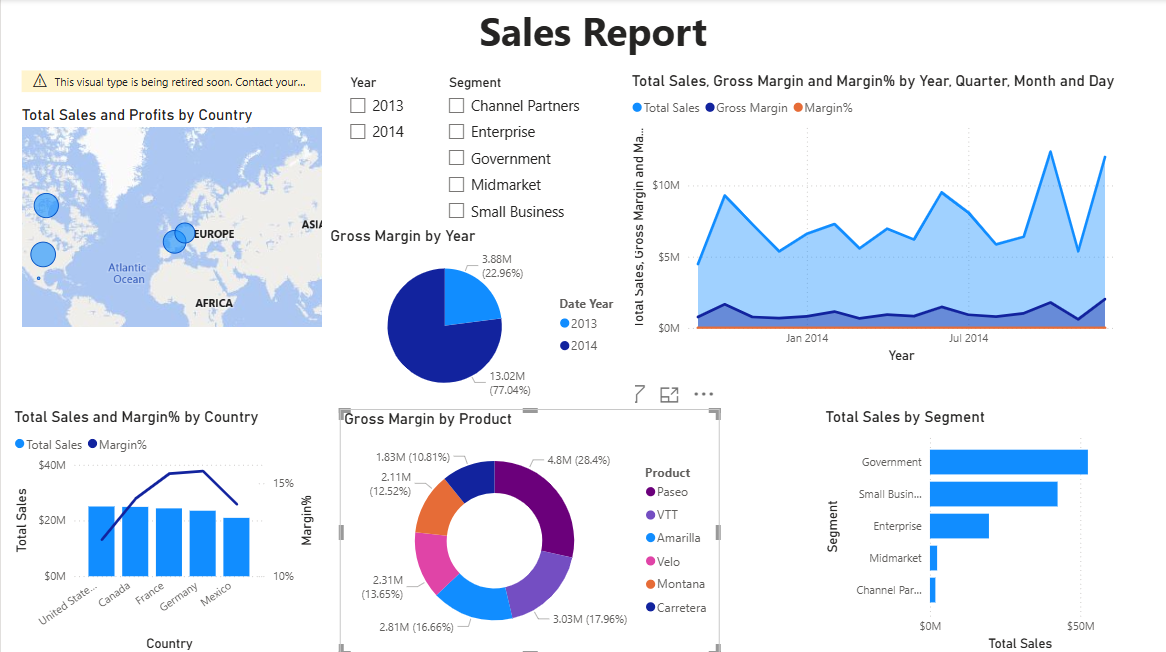

This screenshot's page, from the dashboard's own definition file:
{"tool":"powerbi","page":{"name":"Page 1","canvas":[1280,720],"ordinal":0},"visuals":[{"type":"textbox","box":[520.1,0,269,78.2],"z":0},{"type":"map","fields":{"Category":["SalesTable.Country"],"Size":["SalesTable.Total Sales"]},"box":[17.8,78.2,338.9,281.3],"z":1},{"type":"slicer","fields":{"Values":["SalesTable.Date.Variation.Date Hierarchy.Year"]},"box":[370.5,78.2,108.4,102.9],"z":2},{"type":"slicer","fields":{"Values":["SalesTable.Segment"]},"box":[478.9,78.2,185.2,188],"z":3},{"type":"areaChart","fields":{"Category":["SalesTable.Date.Variation.Date Hierarchy.Year","SalesTable.Date.Variation.Date Hierarchy.Quarter","SalesTable.Date.Variation.Date Hierarchy.Month","SalesTable.Date.Variation.Date Hierarchy.Day"],"Y":["SalesTable.Total Sales","SalesTable.Gross Margin","SalesTable.Margin%"]},"box":[687.5,79.6,551.6,325.2],"z":4},{"type":"donutChart","fields":{"Category":["SalesTable.Product"],"Y":["SalesTable.Gross Margin"]},"box":[371.9,450.1,417.2,270.3],"z":5},{"type":"clusteredBarChart","fields":{"Y":["SalesTable.Total Sales"],"Category":["SalesTable.Segment"]},"box":[900.2,448.7,338.9,271.7],"z":6},{"type":"lineClusteredColumnComboChart","fields":{"Y":["SalesTable.Total Sales"],"Category":["SalesTable.Country"],"Y2":["SalesTable.Margin%"]},"box":[9.6,448.7,338.9,271.7],"z":7},{"type":"pieChart","fields":{"Category":["SalesTable.Date.Variation.Date Hierarchy.Year"],"Y":["SalesTable.Gross Margin"]},"box":[356.8,249.7,338.9,199],"z":8}]}

Visuals, with their boxes in screenshot pixels (x1, y1, x2, y2), scaled from the page's 1280x720 canvas onto the 1166x652 screenshot:
textbox: [474, 0, 719, 71]
map - SalesTable.Country x SalesTable.Total Sales: [16, 71, 325, 326]
slicer - SalesTable.Date.Variation.Date Hierarchy.Year: [338, 71, 436, 164]
slicer - SalesTable.Segment: [436, 71, 605, 241]
areaChart - SalesTable.Date.Variation.Date Hierarchy.Year x SalesTable.Date.Variation.Date Hierarchy.Quarter: [626, 72, 1129, 367]
donutChart - SalesTable.Product x SalesTable.Gross Margin: [339, 408, 719, 651]
clusteredBarChart - SalesTable.Total Sales x SalesTable.Segment: [820, 406, 1129, 651]
lineClusteredColumnComboChart - SalesTable.Total Sales x SalesTable.Country: [9, 406, 317, 651]
pieChart - SalesTable.Date.Variation.Date Hierarchy.Year x SalesTable.Gross Margin: [325, 226, 634, 406]
